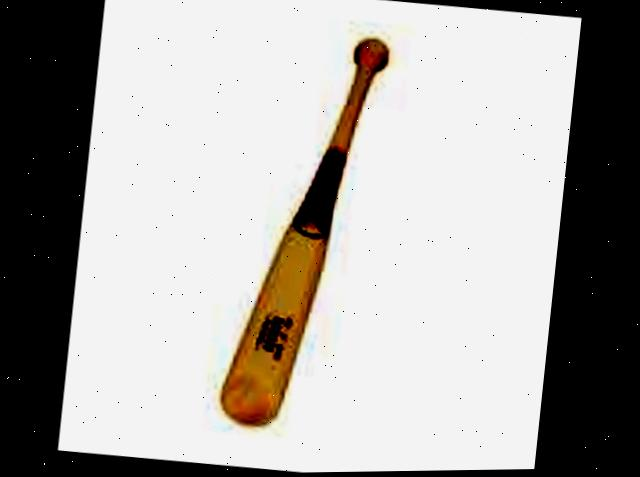baseball bat: (219, 24, 393, 436)
